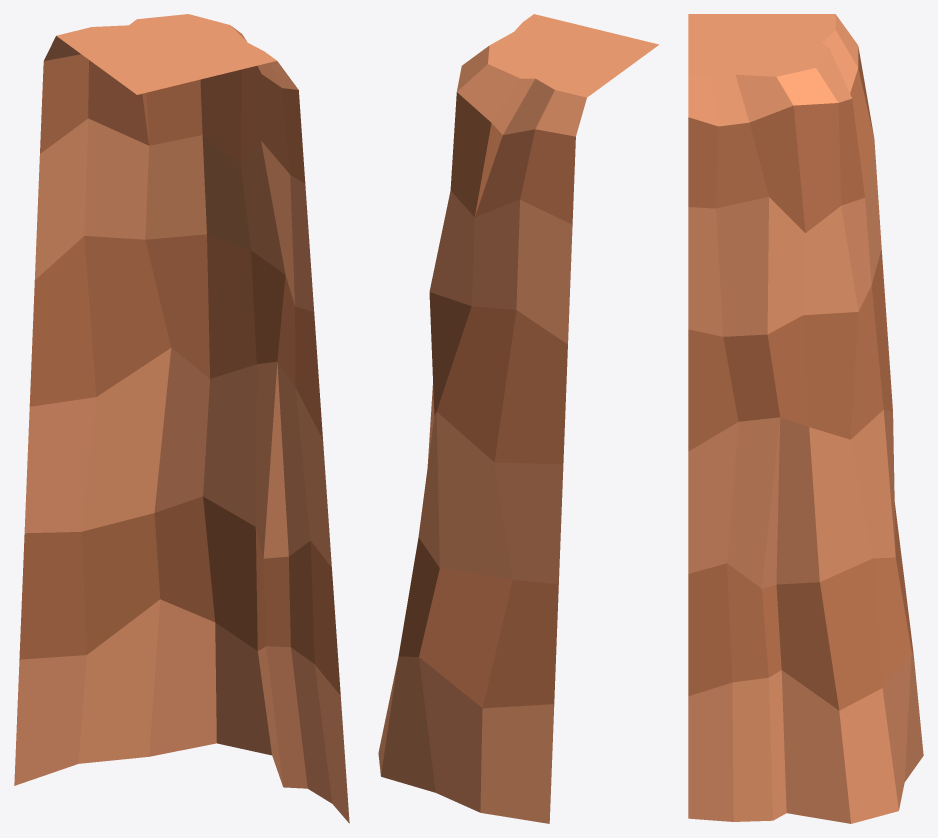
The model's file is Outer_Corner_2.fbx.
3 renders of one model, left to right at view 1: azimuth 30°, elevation 25°; view 2: azimuth 150°, elevation 25°; view 3: azimuth 270°, elevation 25°, orthographic. The views are drawn at different scales.
Visible parts, largest first — view 1: Outer_Corner_2; view 2: Outer_Corner_2; view 3: Outer_Corner_2.
Boxes of the visible parts, <box> form: Outer_Corner_2: <box>14,14,349,823</box>; Outer_Corner_2: <box>378,14,658,823</box>; Outer_Corner_2: <box>688,14,923,823</box>.
Bounding box in the file's own units: 211 × 702 × 211.
